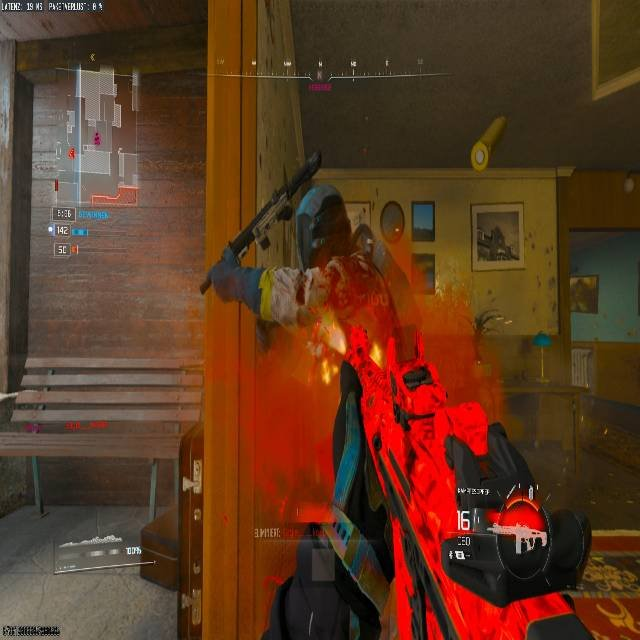head: (296, 185, 350, 255)
player: (189, 184, 411, 627)
